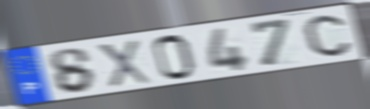0: (151, 32, 197, 81)
4: (206, 26, 251, 73)
7: (248, 18, 296, 69)
8: (47, 47, 98, 95)
C: (302, 13, 353, 58)
X: (94, 38, 153, 90)
